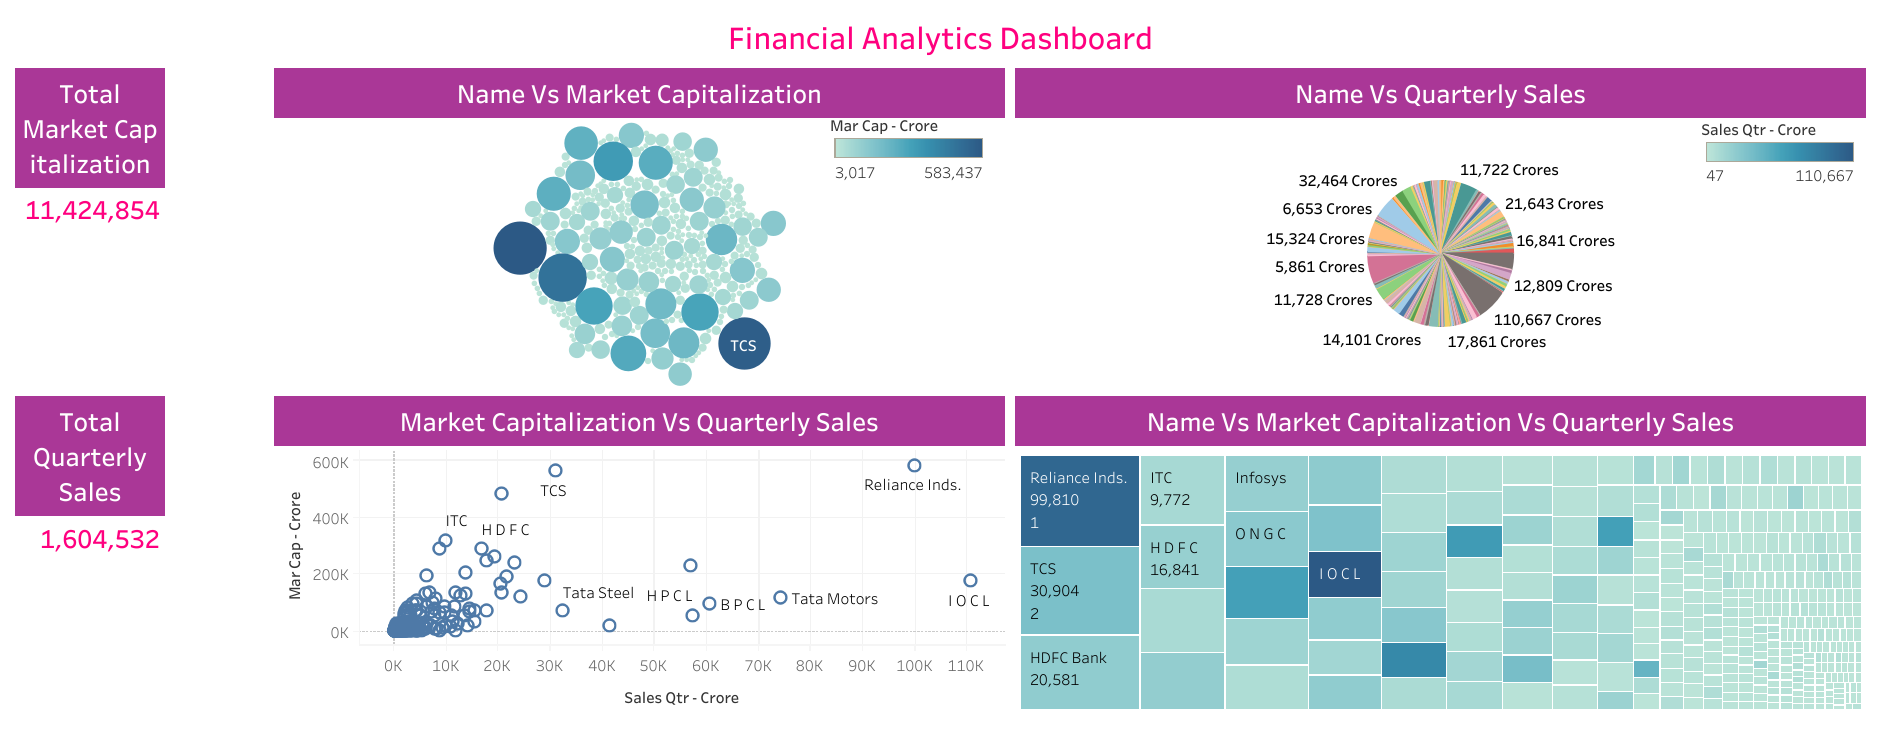

The page's visual inventory and layout, read from the dashboard file:
{"tool":"tableau","page":{"name":"Financial Analytics Dashboard","canvas":[1000,1000],"units":"permille","ordinal":0},"visuals":[{"type":"title","box":[4.8,9.4,990.3,57.6]},{"type":"worksheet","title":"Total Market Capitalization ","mark":"Automatic","box":[4.8,67,137.6,461.8]},{"type":"worksheet","title":"Name Vs Market Capitalization","mark":"Circle","box":[142.4,67,394.7,461.8]},{"type":"worksheet","title":"Name Vs Quarterly Sales","mark":"Pie","box":[537.1,67,458.1,461.8]},{"type":"legend","title":"Name Vs Market Capitalization","param":"[federated.15m5ogg19j95wm13vgcsj0kzxtxc].[sum:Mar Cap - Crore:qk]","box":[441.2,148.1,84.5,103.4]},{"type":"legend","title":"Name Vs Market Capitalization Vs Quarterly Sales","param":"[federated.15m5ogg19j95wm13vgcsj0kzxtxc].[sum:Sales Qtr - Crore:qk]","box":[904,153.9,84.5,103.4]},{"type":"worksheet","title":"Total Quarterly Sales","mark":"Automatic","box":[4.8,528.8,137.6,461.8]},{"type":"worksheet","title":"Market Capitalization Vs Quarterly Sales","mark":"Automatic","rows":["Mar Cap - Crore"],"cols":["Sales Qtr - Crore"],"box":[142.4,528.8,394.7,461.8]},{"type":"worksheet","title":"Name Vs Market Capitalization Vs Quarterly Sales","mark":"Automatic","box":[537.1,528.8,458.1,461.8]}]}

Visuals, with their boxes on the dashboard's canvas, which has no fixed pixel size, in thousandths of its width and height (x1, y1, x2, y2). These are canvas units, not pixel positions in the 1880x730 screenshot, which may show the page scaled, cropped or inside an application window:
title: bbox=[5, 9, 995, 67]
"Total Market Capitalization " worksheet: bbox=[5, 67, 142, 529]
"Name Vs Market Capitalization" worksheet (Circle marks): bbox=[142, 67, 537, 529]
"Name Vs Quarterly Sales" worksheet (Pie marks): bbox=[537, 67, 995, 529]
"Name Vs Market Capitalization" legend: bbox=[441, 148, 526, 252]
"Name Vs Market Capitalization Vs Quarterly Sales" legend: bbox=[904, 154, 988, 257]
"Total Quarterly Sales" worksheet: bbox=[5, 529, 142, 991]
"Market Capitalization Vs Quarterly Sales" worksheet: bbox=[142, 529, 537, 991]
"Name Vs Market Capitalization Vs Quarterly Sales" worksheet: bbox=[537, 529, 995, 991]
